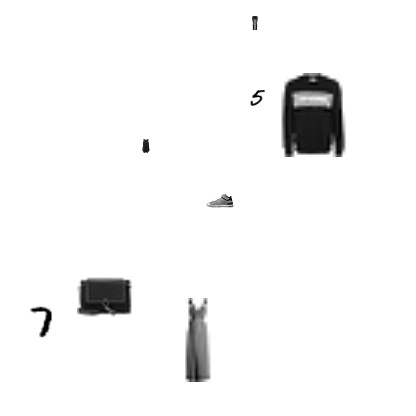5: (246, 86, 268, 108)
7: (23, 298, 65, 340)
Bag: (77, 270, 133, 326)
Dress: (156, 298, 240, 382)
Pullover: (270, 73, 354, 157)
Shirt: (138, 139, 152, 153)
Sneaker: (206, 186, 234, 214)
Trouser: (248, 16, 262, 30)
